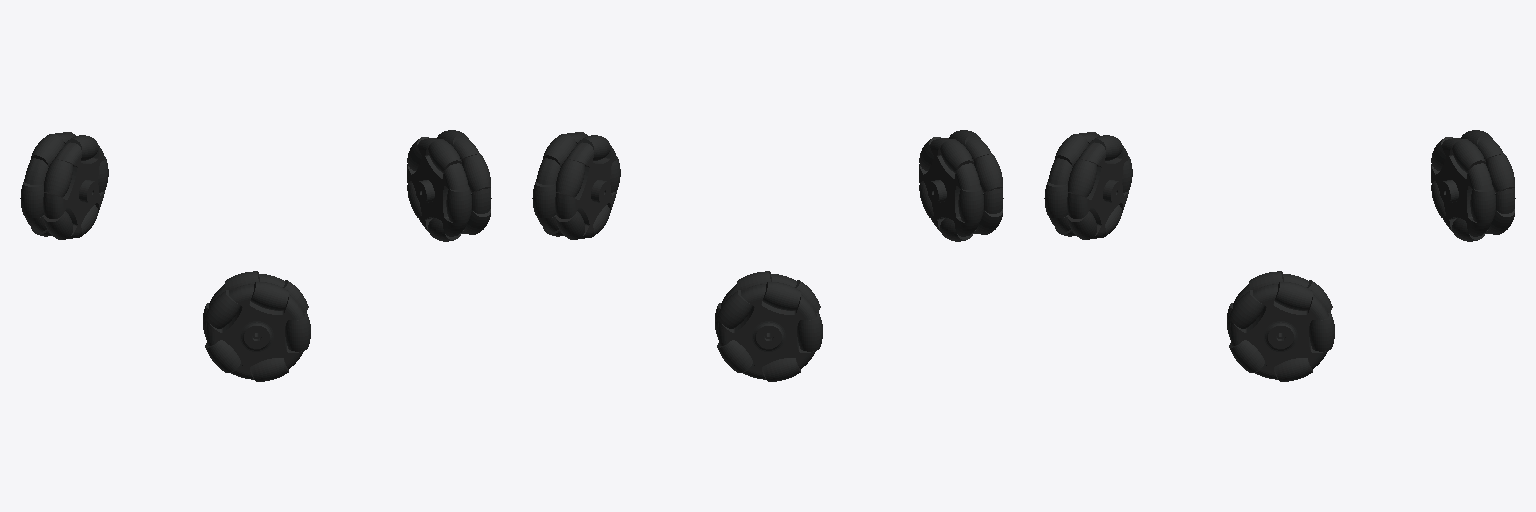
URDF robot description (akros2_omni):
<?xml version="1.0" ?>
<!-- =================================================================================== -->
<!-- |    This document was autogenerated by xacro from urdf/akros2_omni/robot.urdf.xacro | -->
<!-- |    EDITING THIS FILE BY HAND IS NOT RECOMMENDED                                 | -->
<!-- =================================================================================== -->
<robot name="akros2_omni">
  <!-- All values below are based on the CAD model (Fusion 360) -->
  <!-- color codes from https://gist.github.com/naoki-mizuno/5e63a13597d5c5fe817c1600b829595e -->
  <material name="LaserColor">
     <color rgba="0.027450980392156862 0.050980392156862744 0.050980392156862744 1.0" /> <!-- almost black -->
  </material>
  <material name="WheelsNavColor">
    <color rgba="0.21176470588235294 0.21568627450980393 0.21568627450980393 1.0" /> <!-- darkgrey -->
  </material>
  <material name="BaseLinkColor">
     <color rgba="0.5725490196078431 0.5843137254901961 0.5686274509803921 1.0" /> <!-- grey -->
  </material>
  <!-- WHEEL_F TRANSMISSION -->
  <transmission name="trans_f">
    <type>transmission_interface/SimpleTransmission</type>
    <joint name="joint_f">
      <hardwareInterface>hardware_interface/VelocityJointInterface</hardwareInterface>
    </joint>
    <actuator name="motor_f">
      <hardwareInterface>hardware_interface/VelocityJointInterface</hardwareInterface>
      <mechanicalReduction>1</mechanicalReduction>
    </actuator>
  </transmission>
  <!-- WHEEL_L TRANSMISSION -->
  <transmission name="trans_l">
    <type>transmission_interface/SimpleTransmission</type>
    <joint name="joint_l">
      <hardwareInterface>hardware_interface/VelocityJointInterface</hardwareInterface>
    </joint>
    <actuator name="motor_l">
      <hardwareInterface>hardware_interface/VelocityJointInterface</hardwareInterface>
      <mechanicalReduction>1</mechanicalReduction>
    </actuator>
  </transmission>
  <!-- WHEEL_R TRANSMISSION -->
  <transmission name="trans_r">
    <type>transmission_interface/SimpleTransmission</type>
    <joint name="joint_r">
      <hardwareInterface>hardware_interface/VelocityJointInterface</hardwareInterface>
    </joint>
    <actuator name="motor_r">
      <hardwareInterface>hardware_interface/VelocityJointInterface</hardwareInterface>
      <mechanicalReduction>1</mechanicalReduction>
    </actuator>
  </transmission>
  <gazebo reference="base_link">
    <material>Gazebo/Grey</material>
  </gazebo>
  <gazebo reference="laser_link">
    <material>Gazebo/FlatBlack</material>
  </gazebo>
  <gazebo reference="wheel_f">
    <material>Gazebo/DarkGrey</material>
  </gazebo>
  <gazebo reference="wheel_l">
    <material>Gazebo/DarkGrey</material>
  </gazebo>
  <gazebo reference="wheel_r">
    <material>Gazebo/DarkGrey</material>
  </gazebo>
  <gazebo reference="laser_frame">
    <sensor name="head_ld06_sensor" type="ray">
      <pose>0 0 0.06 0 0 0</pose>
      <visualize>false</visualize>
      <update_rate>40</update_rate>
      <ray>
        <scan>
          <horizontal>
            <samples>720</samples>
            <resolution>1</resolution>
            <min_angle>-3.14159265</min_angle>
            <max_angle>3.14159265</max_angle>
          </horizontal>
        </scan>
        <range>
          <min>0.2</min>
          <max>30.0</max>
          <resolution>0.01</resolution>
        </range>
        <noise>
          <type>gaussian</type>
          <mean>0.0</mean>
          <stddev>0.01</stddev>
        </noise>
      </ray>
      <plugin filename="libgazebo_ros_laser.so" name="gazebo_ros_head_ld06_controller">
        <topicName>scan</topicName>
        <frameName>laser_frame</frameName>
      </plugin>
    </sensor>
  </gazebo>
  <gazebo>
    <plugin filename="libgazebo_ros_imu.so" name="imu_plugin">
      <alwaysOn>true</alwaysOn>
      <bodyName>imu_link</bodyName>
      <frameName>imu_link</frameName>
      <topicName>imu</topicName>
      <serviceName>imu_service</serviceName>
      <gaussianNoise>0.0</gaussianNoise>
      <updateRate>200</updateRate>
      <imu>
        <noise>
          <type>gaussian</type>
          <rate>
            <mean>0.0</mean>
            <stddev>2e-4</stddev>
            <bias_mean>0.0000075</bias_mean>
            <bias_stddev>0.0000008</bias_stddev>
          </rate>
          <accel>
            <mean>0.0</mean>
            <stddev>1.7e-2</stddev>
            <bias_mean>0.1</bias_mean>
            <bias_stddev>0.001</bias_stddev>
          </accel>
        </noise>
      </imu>
    </plugin>
  </gazebo>
  <gazebo>
    <plugin filename="libgazebo_ros_planar_move.so" name="omni_steering">
      <commandTopic>cmd_vel</commandTopic>
      <odometryTopic>odom</odometryTopic>
      <odometryFrame>odom</odometryFrame>
      <odometryRate>100.0</odometryRate>
      <robotBaseFrame>base_link</robotBaseFrame>
      <publishTF>false</publishTF>
    </plugin>
  </gazebo>
  <!--<gazebo>
  <plugin name="control" filename="libgazebo_ros_control.so"/>
</gazebo>-->
  <!-- **** LINKS **** -->
  <!-- BASE_LINK -->
  <link name="base_link">
    <visual>
      <origin rpy="0 0 0" xyz="0 0 0"/>
      <geometry>
        <mesh filename="base_module.stl"/>
      </geometry>
      <material name="BaseLinkColor"/>
    </visual>
    <collision>
      <origin rpy="0 0 0" xyz="0 0 0.0164"/>
      <geometry>
        <cylinder length="0.1651" radius="0.105"/>
      </geometry>
    </collision>
  </link>
  <!-- BASE_LINK_INERTIAL (WORKAROUND FOR KDL WHICH DOES NOT ACCEPT BASE_LINK WITH INERTIA) -->
  <link name="base_link_inertial">
    <inertial>
      <origin rpy="0 0 0" xyz="0 0 0"/>
      <mass value="2.0"/>
      <inertia ixx="0.010055501666666666" ixy="0" ixz="0" iyy="0.010055501666666666" iyz="0" izz="0.011024999999999998"/>
    </inertial>
  </link>
  <!-- BASE_FOOTPRINT -->
  <link name="base_footprint"/>
  <!-- LD06 LASER_LINK -->
  <link name="laser_link">
    <inertial>
      <origin rpy="0 0 0" xyz="0 0 0"/>
      <mass value="0.12"/>
      <inertia ixx="2.5406100000000004e-05" ixy="0" ixz="0" iyy="2.533e-05" iyz="0" izz="2.533e-05"/>
    </inertial>
    <visual>
      <origin rpy="0 0 -1.5707963" xyz="0 0 0"/>
      <geometry>
        <mesh filename="ld06.stl"/>
      </geometry>
      <material name="LaserColor"/>
    </visual>
    <collision>
      <origin rpy="0 0 -1.5707963" xyz="0 0 0.0165"/>
      <geometry>
        <box size="0.038 0.0381 0.033"/>
      </geometry>
    </collision>
  </link>
  <!-- LASER_FRAME -->
  <link name="laser_frame"/>
  <!-- MPU9250 IMU_LINK -->
  <link name="imu_link"/>
  <!-- WHEEL FRONT -->
  <link name="wheel_f">
    <inertial>
      <mass value="0.075"/>
      <inertia ixx="1.999375e-05" ixy="0" ixz="0" iyy="1.999375e-05" iyz="0" izz="3.15375e-05"/>
    </inertial>
    <visual>
      <origin rpy="0 0 0" xyz="0 0 0"/>
      <geometry>
        <mesh filename="omniwheel.stl"/>
      </geometry>
      <material name="WheelsNavColor"/>
    </visual>
    <collision>
      <origin rpy="0 1.5707963 0" xyz="0.013 0 0"/>
      <geometry>
        <cylinder length="0.026" radius="0.029"/>
      </geometry>
    </collision>
  </link>
  <!-- WHEEL LEFT -->
  <link name="wheel_l">
    <inertial>
      <mass value="0.075"/>
      <inertia ixx="1.999375e-05" ixy="0" ixz="0" iyy="1.999375e-05" iyz="0" izz="3.15375e-05"/>
    </inertial>
    <visual>
      <origin rpy="0 0 0" xyz="0 0 0"/>
      <geometry>
        <mesh filename="omniwheel.stl"/>
      </geometry>
      <material name="WheelsNavColor"/>
    </visual>
    <collision>
      <origin rpy="0 1.5707963 0" xyz="0.013 0 0"/>
      <geometry>
        <cylinder length="0.026" radius="0.029"/>
      </geometry>
    </collision>
  </link>
  <!-- WHEEL RIGHT -->
  <link name="wheel_r">
    <inertial>
      <mass value="0.075"/>
      <inertia ixx="1.999375e-05" ixy="0" ixz="0" iyy="1.999375e-05" iyz="0" izz="3.15375e-05"/>
    </inertial>
    <visual>
      <origin rpy="0 0 0" xyz="0 0 0"/>
      <geometry>
        <mesh filename="omniwheel.stl"/>
      </geometry>
      <material name="WheelsNavColor"/>
    </visual>
    <collision>
      <origin rpy="0 1.5707963 0" xyz="0.013 0 0"/>
      <geometry>
        <cylinder length="0.026" radius="0.029"/>
      </geometry>
    </collision>
  </link>
  <!-- **** JOINTS **** -->
  <!-- BASE_FOOTPRINT TO BASE_LINK -->
  <!-- BASE_LINK_INERTIAL TO BASE_LINK -->
  <joint name="base_inertial_fixed" type="fixed">
    <parent link="base_link"/>
    <child link="base_link_inertial"/>
    <origin xyz="0 0 0"/>
  </joint>
  <joint name="base_footprint_fixed" type="fixed">
    <parent link="base_link"/>
    <child link="base_footprint"/>
    <origin xyz="0 0 -0.085597"/>
  </joint>
  <!-- LASER_LINK TO BASE_LINK -->
  <joint name="base_laser_fixed" type="fixed">
    <parent link="base_link"/>
    <child link="laser_link"/>
    <origin xyz="0.034435 0 0.076503"/>
  </joint>
  <!-- LASER_FRAME TO LASER_LINK -->
  <joint name="laser_frame_fixed" type="fixed">
    <parent link="laser_link"/>
    <child link="laser_frame"/>
    <origin xyz="0 0 0.0255"/>
  </joint>
  <!-- IMU_LINK TO BASE_LINK -->
  <joint name="imu_base_fixed" type="fixed">
    <parent link="base_link"/>
    <child link="imu_link"/>
    <origin xyz="0 0 0.063003"/>
  </joint>
  <!-- WHEEL_F TO BASE_LINK -->
  <joint name="joint_f" type="continuous">
    <parent link="base_link"/>
    <child link="wheel_f"/>
    <origin rpy="0 0 0" xyz="0.10683 0 -0.056597"/>
    <axis xyz="1 0 0"/>
  </joint>
  <!-- WHEEL_L TO BASE_LINK -->
  <joint name="joint_l" type="continuous">
    <parent link="base_link"/>
    <child link="wheel_l"/>
    <origin rpy="0 0 2.094395" xyz="-0.053415 0.092518 -0.056597"/>
    <axis xyz="1 0 0"/>
  </joint>
  <!-- WHEEL_R TO BASE_LINK -->
  <joint name="joint_r" type="continuous">
    <parent link="base_link"/>
    <child link="wheel_r"/>
    <origin rpy="0 0 -2.094395" xyz="-0.053415 -0.092518 -0.056597"/>
    <axis xyz="1 0 0"/>
  </joint>
</robot>

--- Facts derived from the render (not from the file) ---
3 views of the same robot in one strip: view 1: azimuth 30°, elevation 25°; view 2: azimuth 150°, elevation 25°; view 3: azimuth 270°, elevation 25° (orthographic).
Model akros2_omni with 9 links and 8 joints (3 continuous, 5 fixed), rooted at base_link, posed all joints at 0.
Visible links, largest first — view 1: wheel_r, wheel_f, wheel_l; view 2: wheel_l, wheel_r, wheel_f; view 3: wheel_f, wheel_l, wheel_r.
Link boxes in pixels (x1=…): wheel_r: x1=203, y1=271, x2=310, y2=381; wheel_f: x1=407, y1=130, x2=491, y2=241; wheel_l: x1=20, y1=132, x2=108, y2=239; wheel_l: x1=715, y1=271, x2=822, y2=381; wheel_r: x1=919, y1=130, x2=1003, y2=241; wheel_f: x1=532, y1=132, x2=620, y2=239; wheel_f: x1=1227, y1=271, x2=1334, y2=381; wheel_l: x1=1431, y1=130, x2=1515, y2=241; wheel_r: x1=1044, y1=132, x2=1132, y2=239.
Size in the robot's own frame: 0.222 by 0.2532 by 0.0583 metres.
Meshes: 3 distinct files referenced, 3 mesh visuals loaded (1 binary STL); not drawn: 2 (reference not matched to a file when rendering).
